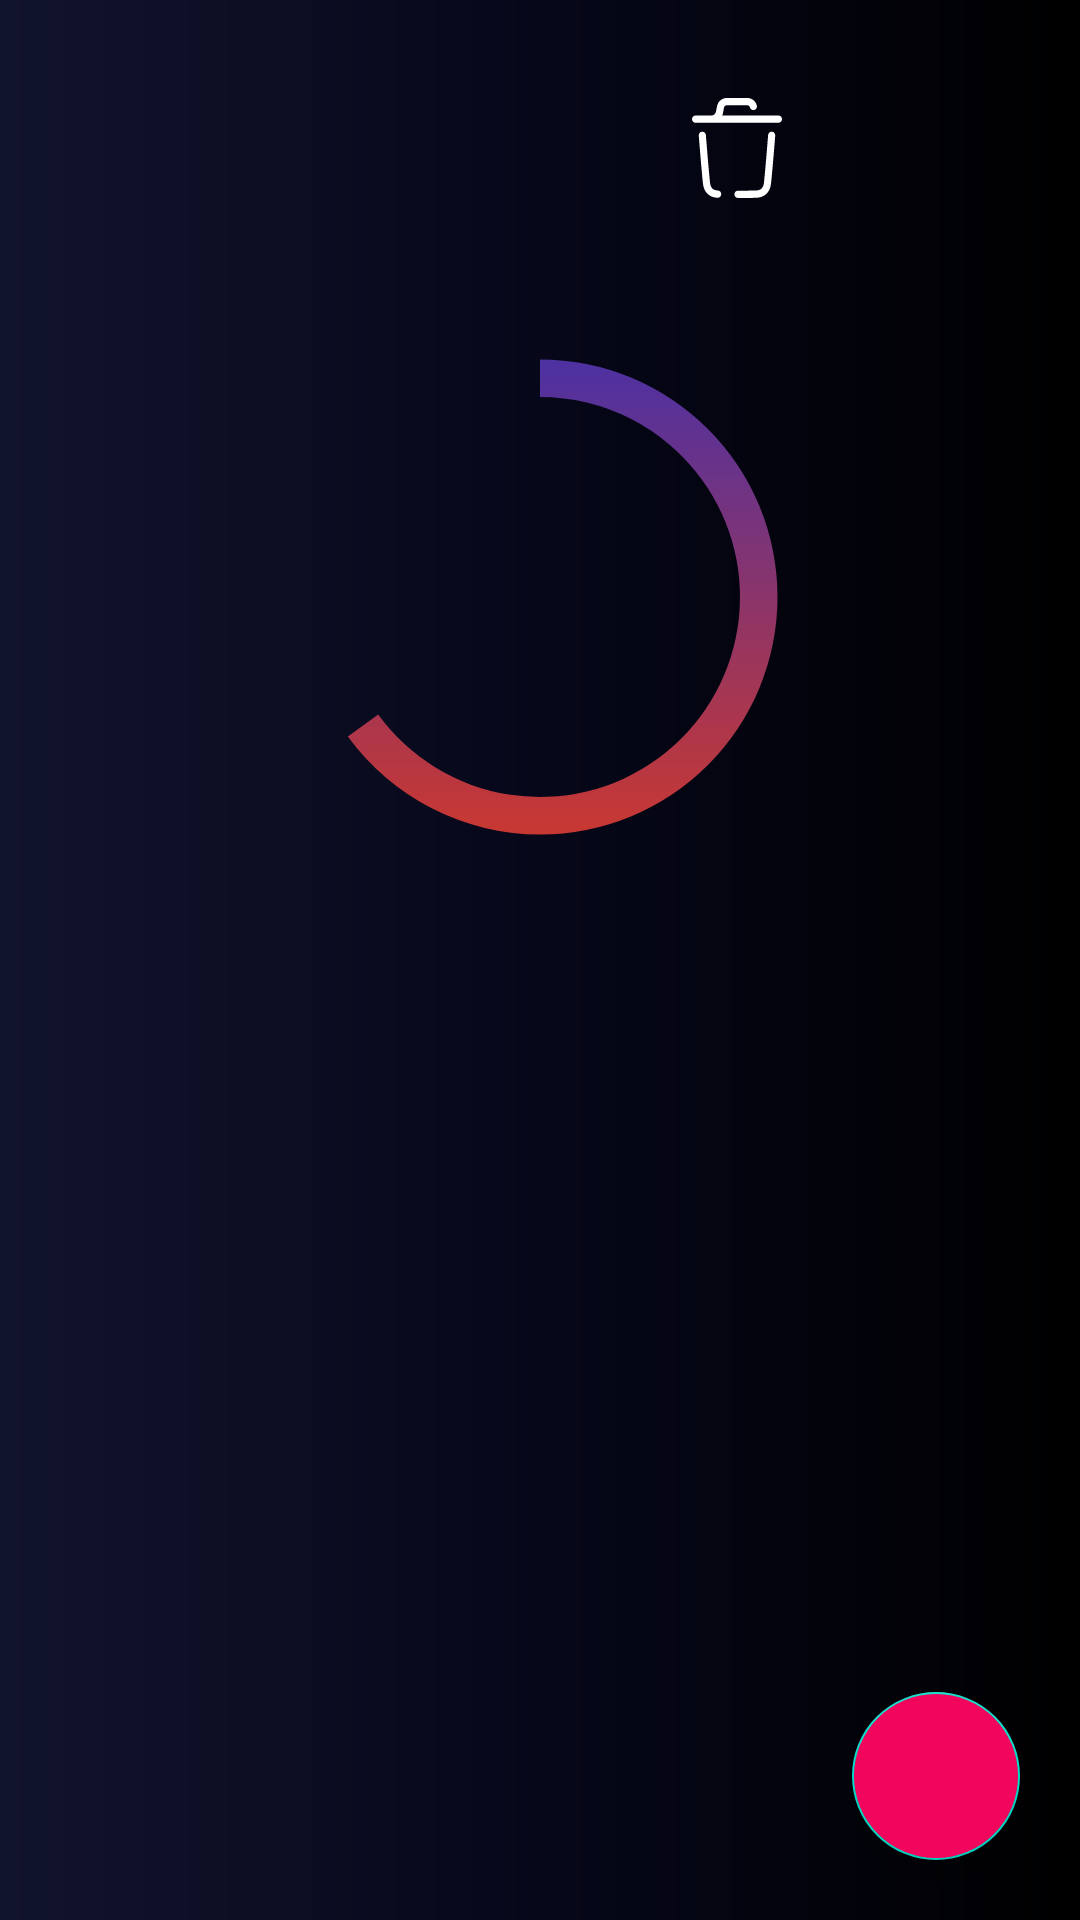

Icon click points for this 1080 × 1920 phone screenshot, format (x=x, y=y):
delete: (x=737, y=148)
